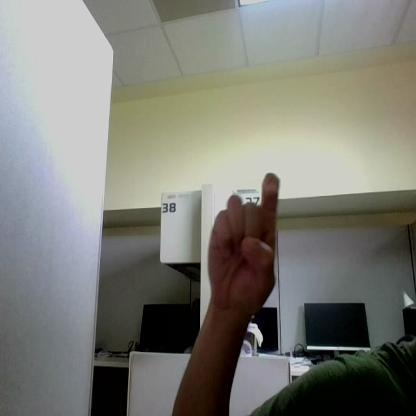X: (208, 172, 278, 310)
